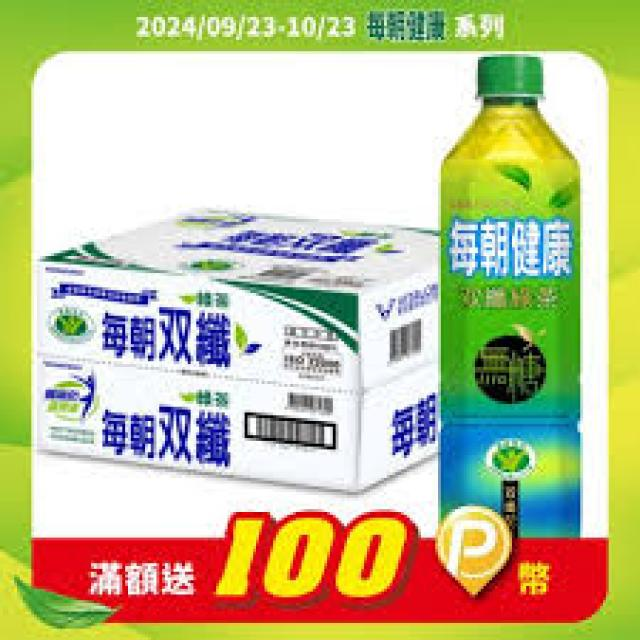MeiChou_GreenTea: (427, 52, 589, 547)
